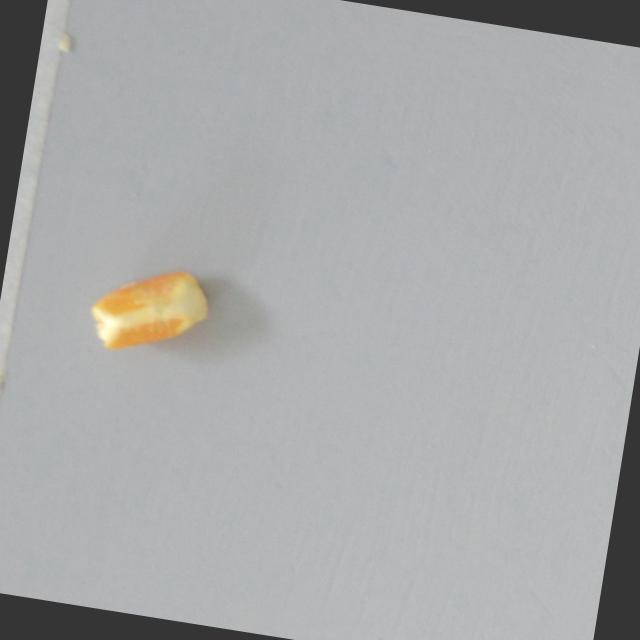dañado: (79, 253, 218, 369)
